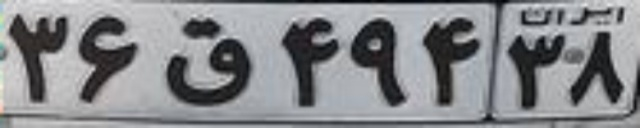3: (7, 13, 65, 104), (507, 30, 566, 109)
4: (277, 16, 339, 107), (423, 15, 478, 106)
6: (76, 15, 136, 104)
8: (566, 30, 629, 105)
9: (350, 16, 408, 107)
ghaf: (161, 17, 252, 107)
